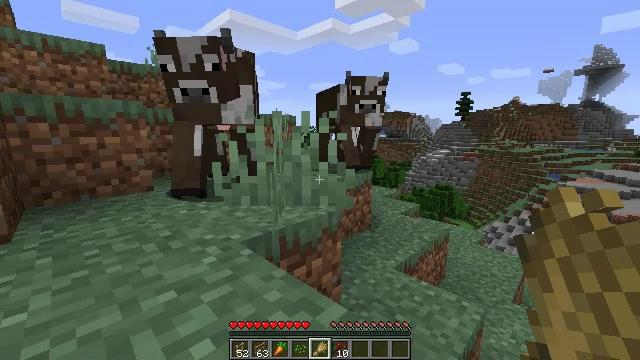cow: (152, 28, 259, 199), (316, 70, 392, 168)
